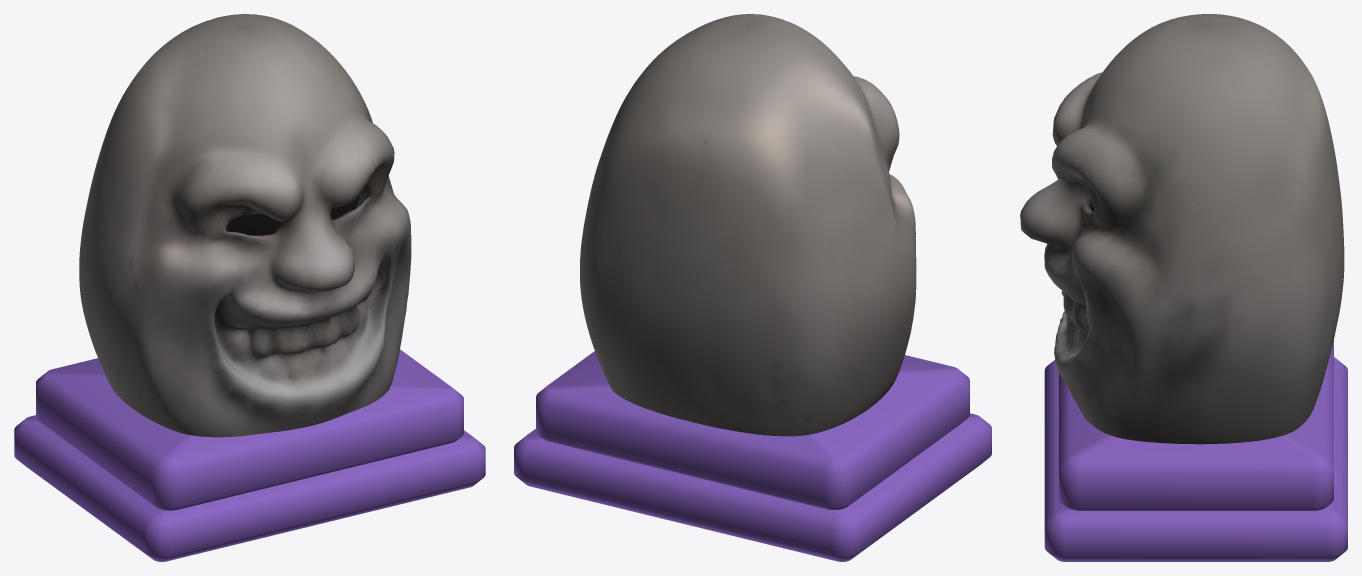
File: xom.glb
3 views of the same model, side by side, from view 1: azimuth 30°, elevation 25°; view 2: azimuth 150°, elevation 25°; view 3: azimuth 270°, elevation 25° (orthographic). The views are drawn at different scales.
Parts seen in each view (by area): view 1: Face_grin, Plinth, Cavity_core; view 2: Face_grin, Plinth; view 3: Face_grin, Plinth.
Part boxes in pixels (left/top/right/bottom): Face_grin: left=79, top=14, right=411, bottom=437; Plinth: left=14, top=349, right=485, bottom=561; Cavity_core: left=226, top=196, right=359, bottom=235; Face_grin: left=580, top=14, right=916, bottom=436; Plinth: left=514, top=351, right=991, bottom=561; Face_grin: left=1020, top=14, right=1344, bottom=444; Plinth: left=1044, top=340, right=1347, bottom=561.
Size of what is drawn, in the model's own units: 2.85 by 3.57 by 2.33.
